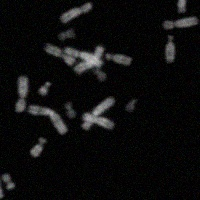chromosome: (28, 105, 67, 135), (82, 96, 115, 131), (74, 46, 104, 73), (64, 48, 104, 68), (60, 1, 94, 24), (44, 42, 76, 65), (82, 111, 114, 130), (163, 15, 198, 28), (15, 75, 27, 112), (106, 52, 131, 66), (29, 137, 46, 156), (165, 35, 175, 62), (1, 172, 16, 189), (177, 0, 195, 14), (59, 28, 76, 41), (65, 101, 77, 118), (92, 68, 107, 80), (126, 98, 138, 113), (39, 82, 50, 96), (0, 150, 3, 200)
